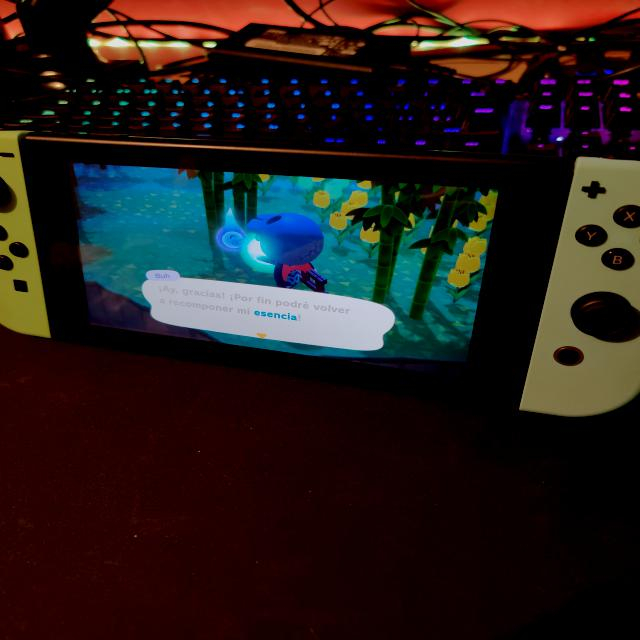text_bubble: (141, 270, 398, 354)
